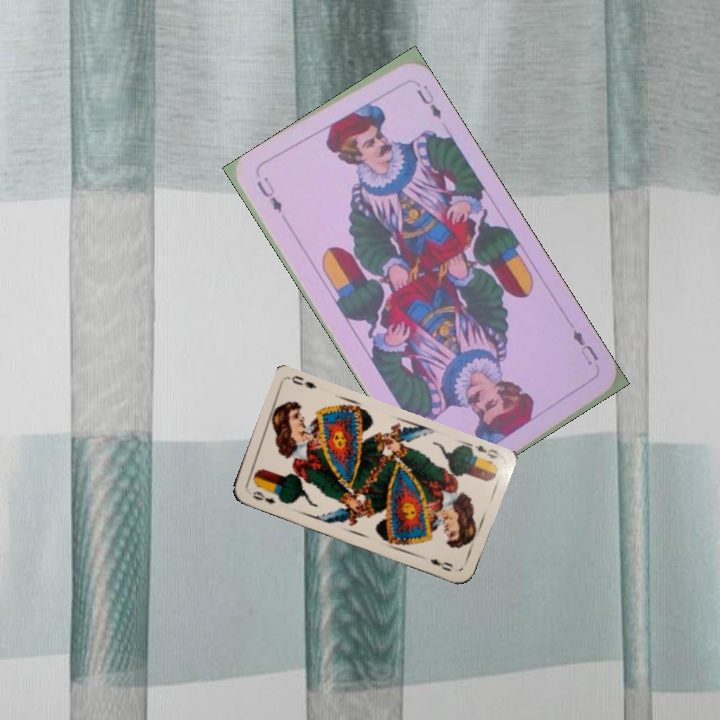EO: (463, 439, 502, 465), (248, 487, 278, 506)
EU: (252, 173, 285, 216), (568, 326, 601, 368)
